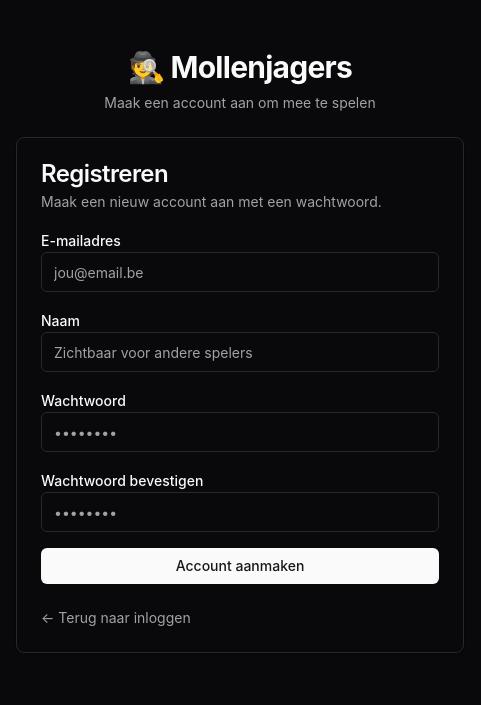
Test case: RegisterPage › shows error when required fields are empty
The width and height of the screenshot is (481, 705).
Click the button "Account aanmaken" at (240, 566), box top-left (41, 548), bottom-right (439, 584)
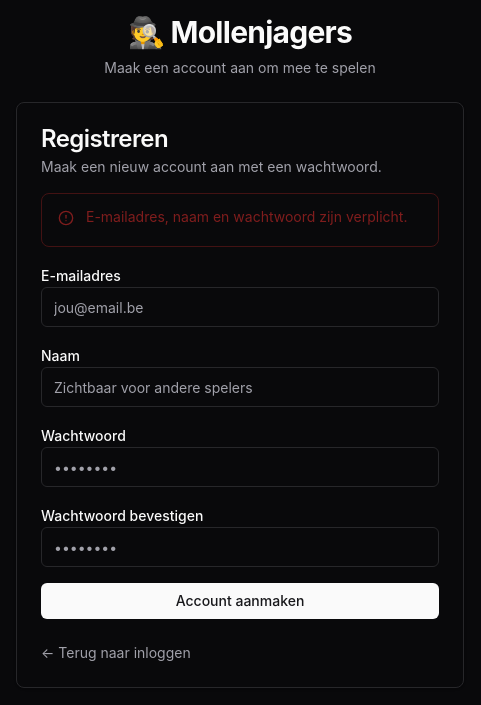
expect the text "E-mailadres, naam en wachtwoord zijn verplicht." is shown: met, box top-left (58, 207), bottom-right (422, 227)
